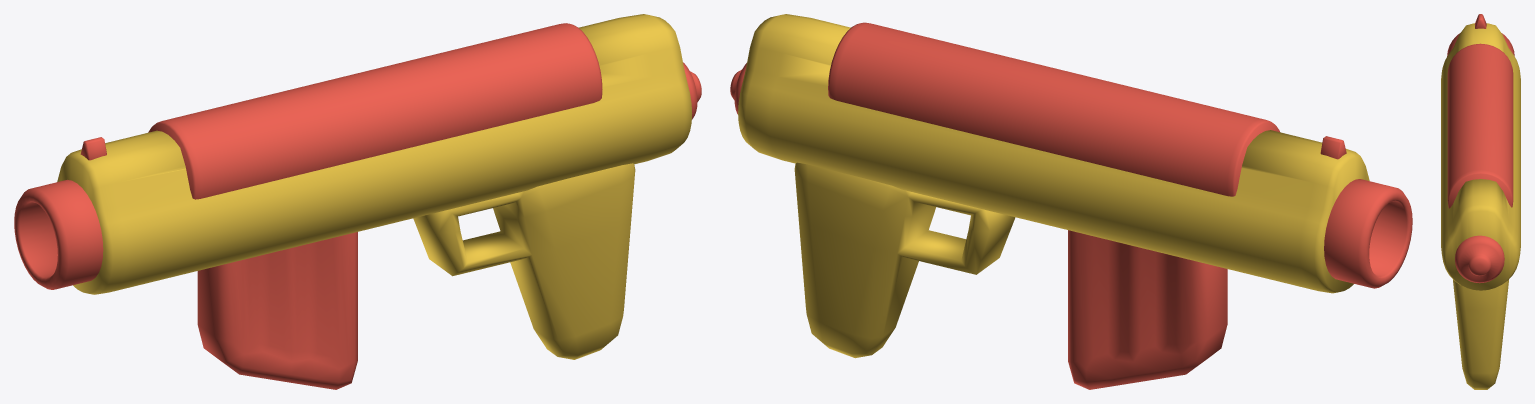
Rendered from toy_gun.glb.
3 renders of one model, left to right at view 1: azimuth 30°, elevation 25°; view 2: azimuth 150°, elevation 25°; view 3: azimuth 270°, elevation 25°, orthographic. The views are drawn at different scales.
Visible parts, largest first — view 1: Cylinder, Cylinder.003, Cube, Cube.001, Cylinder.001; view 2: Cylinder, Cylinder.003, Cube, Cube.001, Cylinder.001; view 3: Cylinder.003, Cylinder, Cube, Cylinder.004, Cylinder.001, Cube.002.
Part boxes in pixels (box(x1,y1,x2,y2)): Cylinder: box(57, 14, 692, 294); Cylinder.003: box(148, 23, 602, 199); Cube: box(413, 163, 635, 359); Cube.001: box(197, 232, 357, 389); Cylinder.001: box(14, 179, 103, 289); Cylinder: box(738, 14, 1369, 293); Cylinder.003: box(828, 22, 1279, 196); Cube: box(794, 162, 1015, 358); Cube.001: box(1068, 230, 1227, 389); Cylinder.001: box(1324, 179, 1412, 288); Cylinder.003: box(1447, 43, 1513, 208); Cylinder: box(1441, 23, 1520, 290); Cube: box(1453, 280, 1508, 389); Cylinder.004: box(1455, 235, 1504, 283); Cylinder.001: box(1447, 33, 1514, 56); Cube.002: box(1474, 14, 1486, 28).
Bounding box in the file's own units: 938 × 454 × 151.
